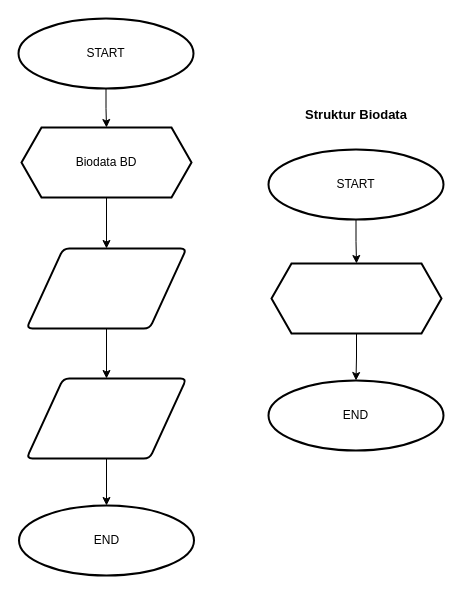
The diagram is 461 pixels wide and 593 high, and some of its shapes have lost their labels. Here are the shapes that lost their labels. From the top down, the centre of each, then its label:
At point (106, 288): "Input BD.nama dan BD.umur".
At point (356, 298): "string nama; int umur;".
At point (106, 418): "Cetak BD.nama dan BD.umur".
